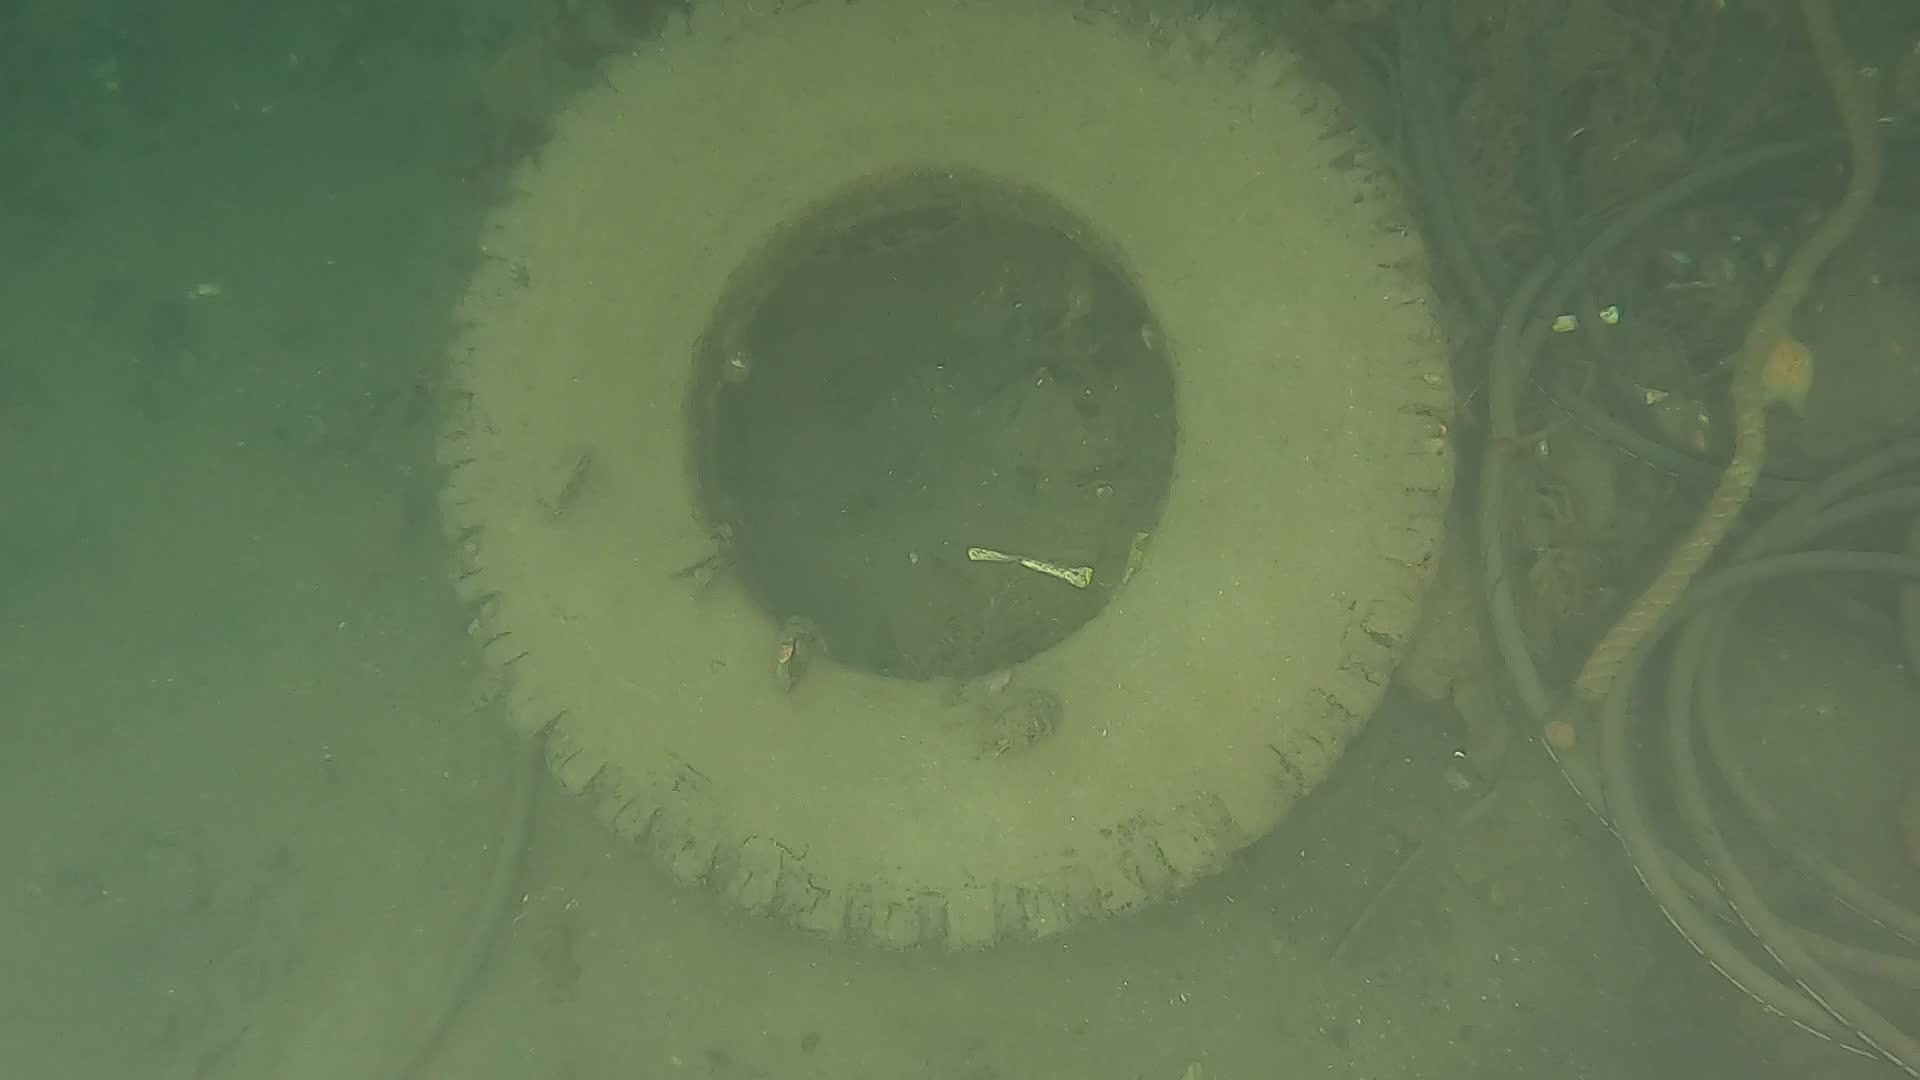rope: (1576, 0, 1888, 698)
tire: (436, 0, 1455, 953)
